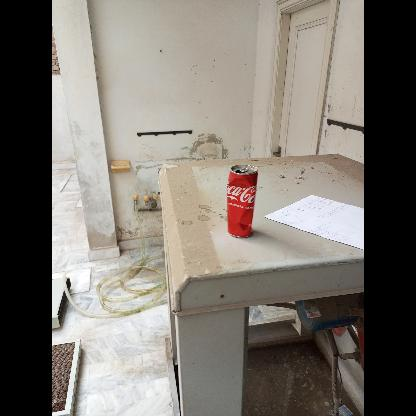Dent_Can: (227, 179, 255, 231)
Lid_Open: (235, 165, 252, 175)
Tin_Can: (227, 164, 259, 240)
